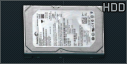Damaged hard drive: (0, 0, 127, 64)
